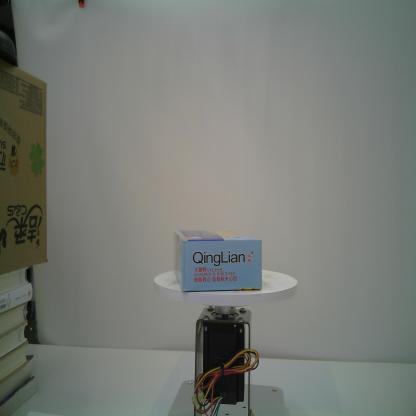Dessert: (173, 229, 263, 293)
